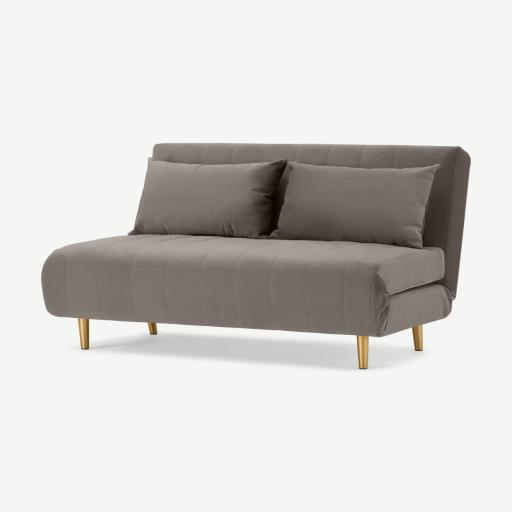back_cushion: (273, 161, 436, 248), (135, 159, 285, 238)
legs: (77, 318, 89, 349), (357, 336, 368, 369), (412, 326, 422, 351), (148, 323, 156, 334)
seat_cushion: (43, 234, 451, 336)
two-seater: (0, 0, 511, 512)
